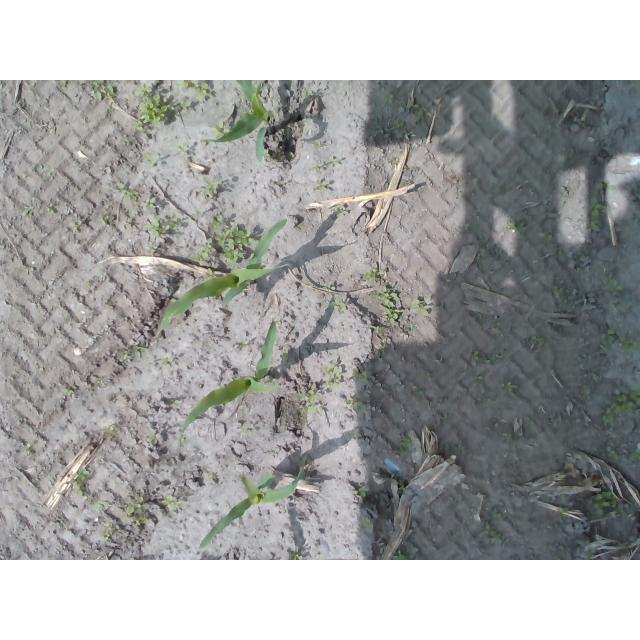Maize: (156, 220, 287, 333), (181, 318, 278, 437), (196, 462, 306, 554), (202, 80, 273, 161)
Weeds: (131, 80, 216, 134), (195, 215, 254, 265), (367, 266, 402, 322), (600, 384, 640, 426), (599, 319, 640, 353), (589, 178, 615, 231), (593, 490, 624, 519), (143, 212, 179, 234), (480, 508, 502, 544), (294, 383, 318, 414), (125, 495, 147, 526), (320, 363, 342, 390), (90, 80, 115, 101), (74, 467, 91, 497), (114, 180, 139, 200), (606, 271, 623, 297), (470, 348, 497, 364), (394, 544, 419, 561), (116, 347, 146, 361), (399, 432, 413, 458), (200, 177, 224, 191), (499, 380, 517, 398), (210, 120, 230, 136), (352, 366, 369, 384), (328, 299, 348, 313), (509, 219, 528, 233), (145, 153, 160, 168), (163, 494, 177, 510), (382, 88, 394, 106), (416, 105, 427, 124), (143, 244, 160, 256), (418, 304, 432, 317), (96, 499, 112, 510), (605, 444, 616, 460), (352, 400, 366, 412), (558, 505, 569, 520), (334, 204, 347, 216), (161, 357, 176, 367), (174, 142, 186, 154), (146, 196, 158, 208), (534, 335, 546, 347), (394, 119, 407, 130), (630, 449, 640, 463), (353, 487, 367, 497), (100, 217, 113, 227), (288, 552, 304, 560), (323, 285, 337, 294), (312, 163, 324, 173), (542, 229, 554, 239), (317, 179, 327, 190), (104, 425, 116, 434), (303, 88, 314, 97), (578, 254, 590, 262), (63, 388, 73, 396), (47, 207, 58, 214), (281, 351, 288, 361), (102, 533, 110, 541), (377, 326, 386, 333), (400, 486, 405, 491)
